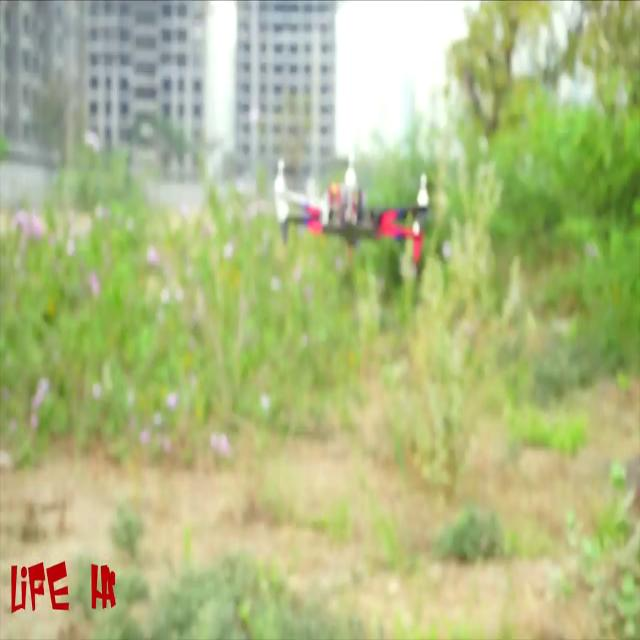drone: (258, 139, 452, 295)
